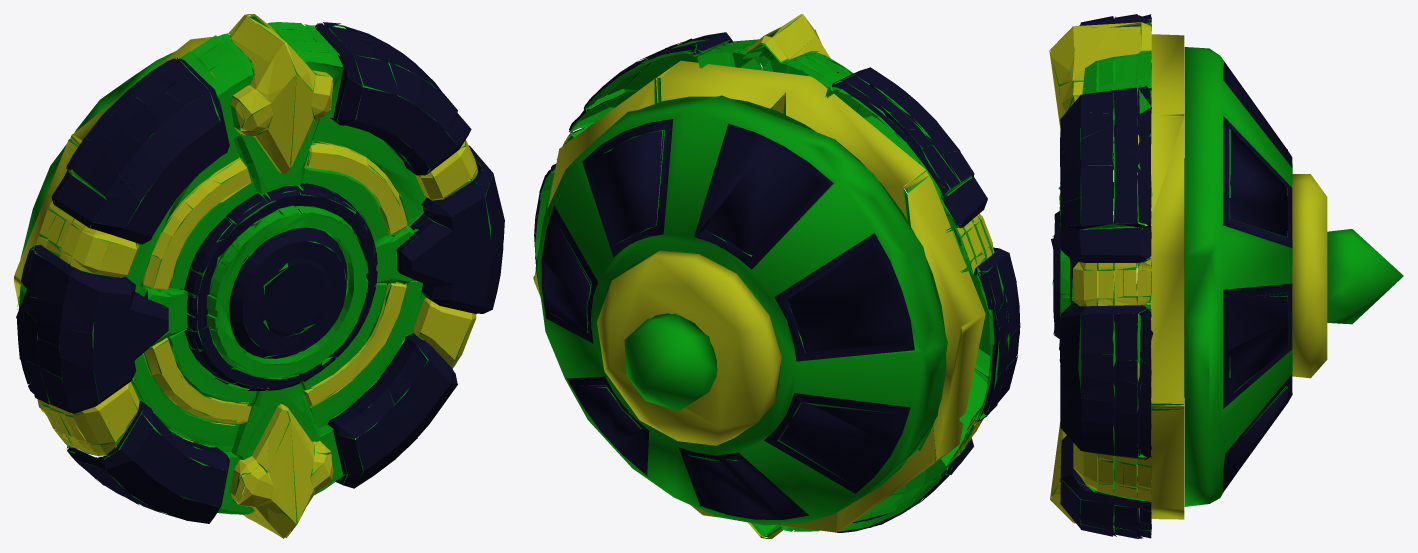
File: spiner33.glb
3 views of the same model, side by side, from view 1: azimuth 30°, elevation 25°; view 2: azimuth 150°, elevation 25°; view 3: azimuth 270°, elevation 25° (orthographic).
Parts seen in each view (by area): view 1: Mesh_0; view 2: Mesh_0; view 3: Mesh_0.
Part boxes in pixels (box(x1,y1,x2,y2)): Mesh_0: box(14, 14, 504, 538); Mesh_0: box(533, 14, 1020, 538); Mesh_0: box(1049, 14, 1403, 538).
Bounding box in the file's own units: 0.0546 × 0.0569 × 0.0364.
